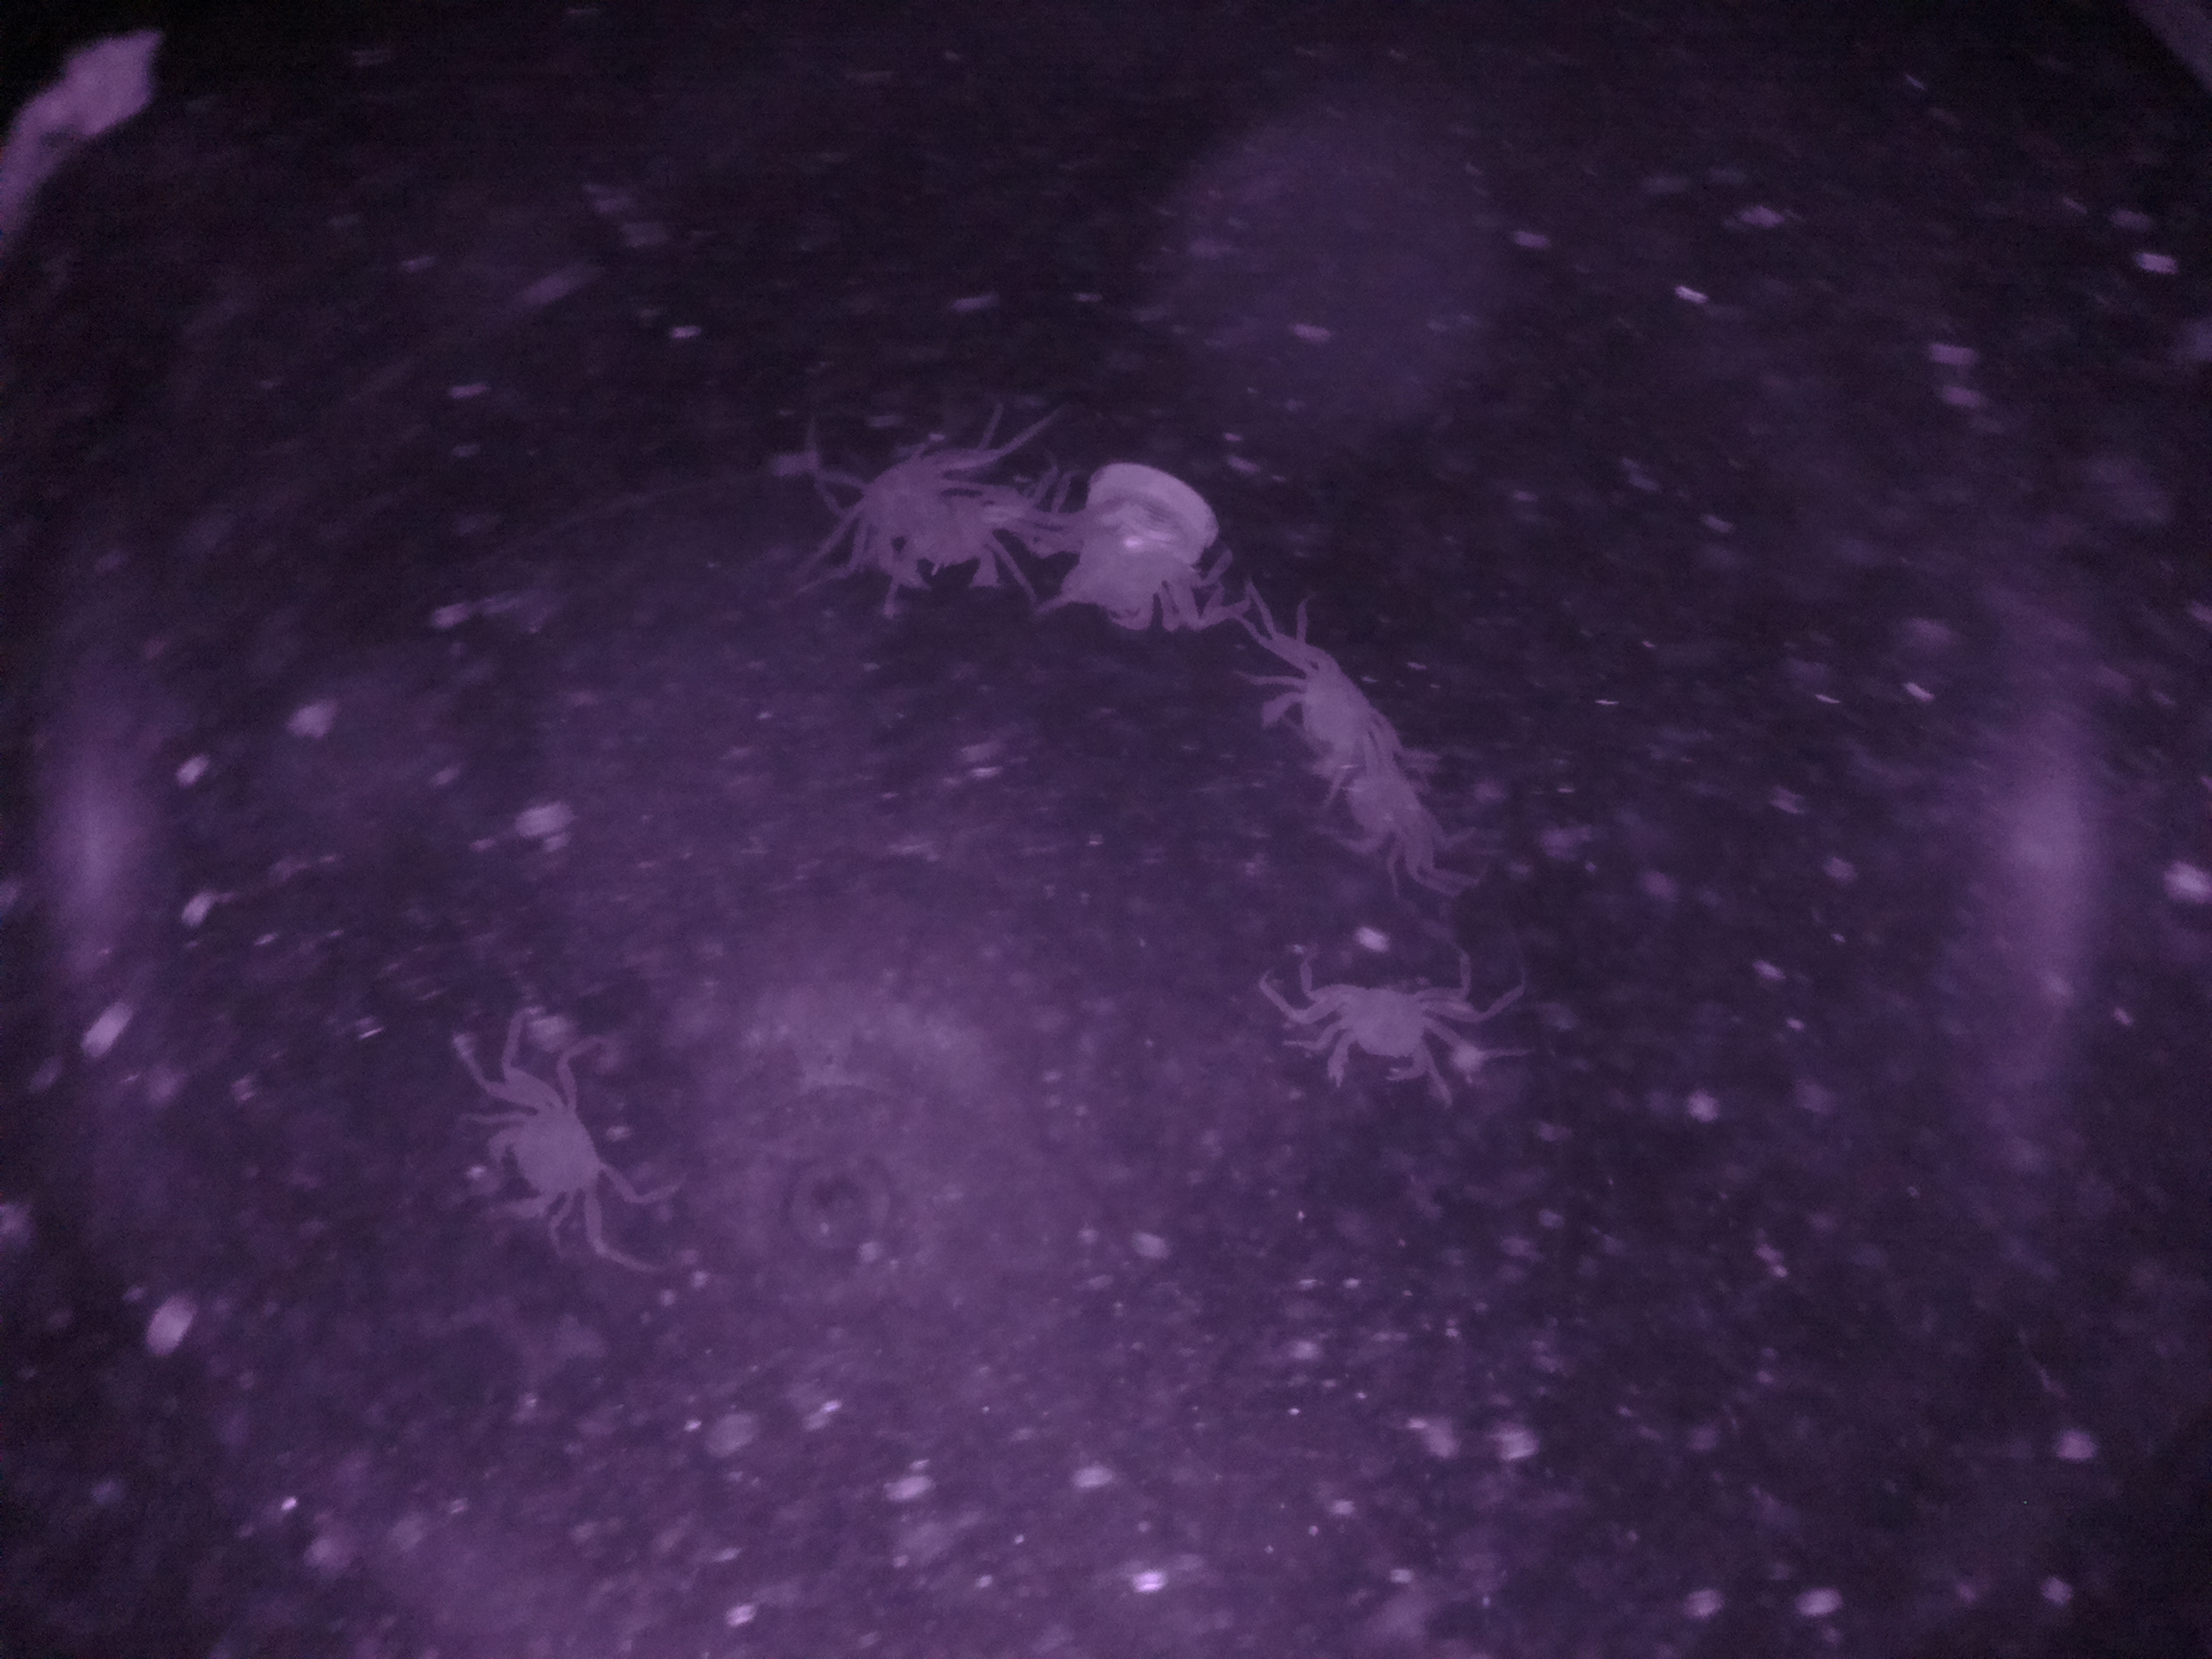Crab: (463, 1006, 639, 1265), (1258, 951, 1517, 1096)
